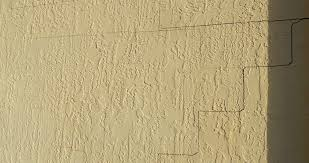stairstep_crack: (154, 13, 307, 162)
